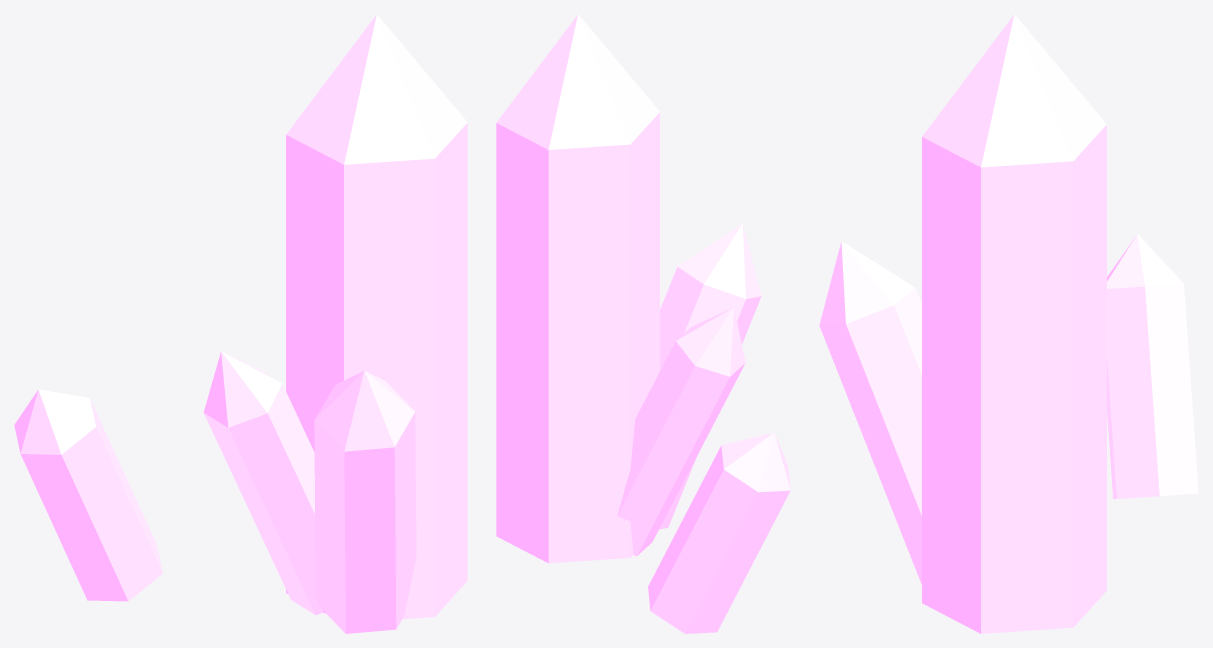
Rendered from ore_crystal.glb.
3 renders of one model, left to right at view 1: azimuth 30°, elevation 25°; view 2: azimuth 150°, elevation 25°; view 3: azimuth 270°, elevation 25°, orthographic. The views are drawn at different scales.
Visible parts, largest first — view 1: ore_crystal; view 2: ore_crystal; view 3: ore_crystal.
Boxes of the visible parts, left/top/right/bottom form: ore_crystal: left=14, top=14, right=467, bottom=633; ore_crystal: left=496, top=14, right=790, bottom=633; ore_crystal: left=819, top=14, right=1198, bottom=633.
Size of the model in its own units: 0.2604 by 0.3911 by 0.227.
